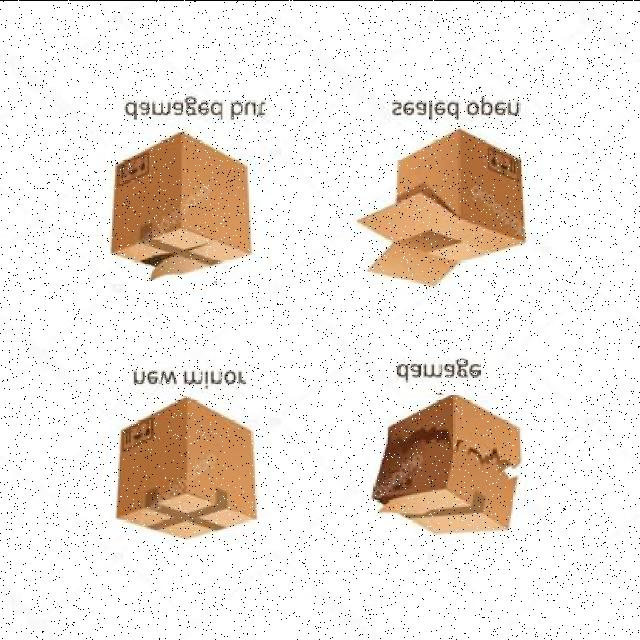defect: (358, 126, 530, 288), (370, 394, 524, 537)
normal: (109, 131, 257, 280), (112, 396, 260, 544)
